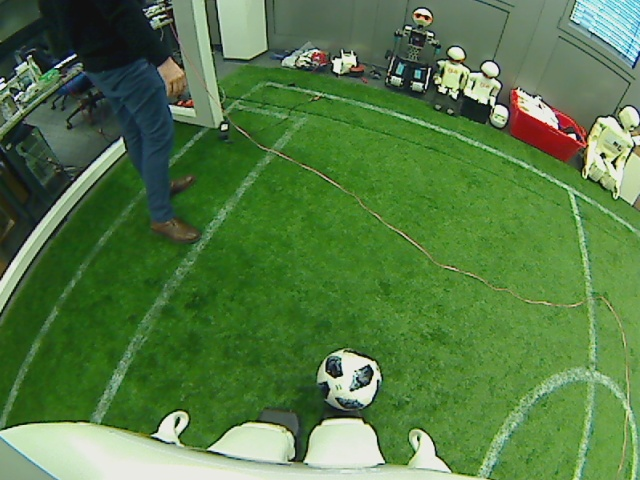ball: (314, 344, 383, 412)
